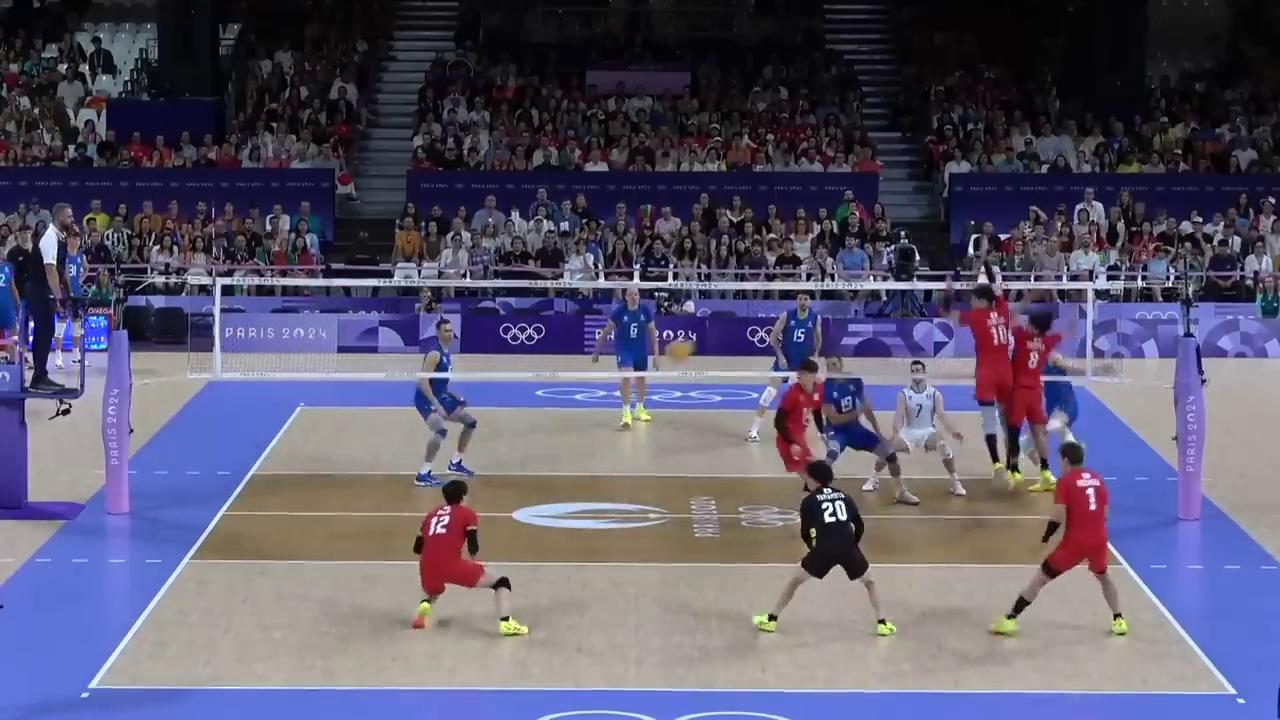ball: (670, 340, 693, 360)
